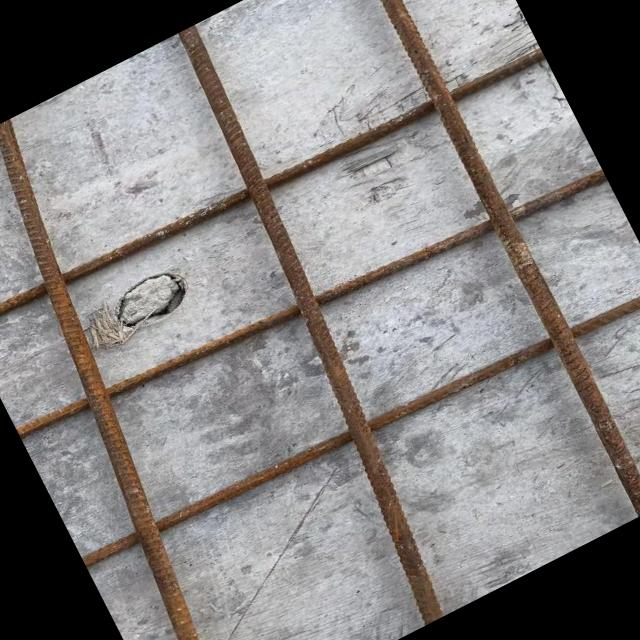ribbed bar: (133, 24, 488, 626), (15, 136, 608, 472), (80, 265, 640, 585), (0, 29, 545, 350), (0, 120, 298, 640), (343, 0, 640, 518)
